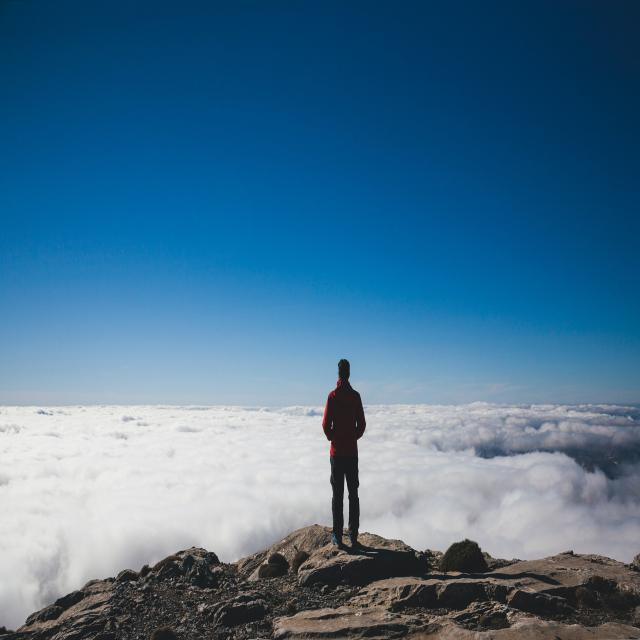standing: (322, 358, 370, 549)
